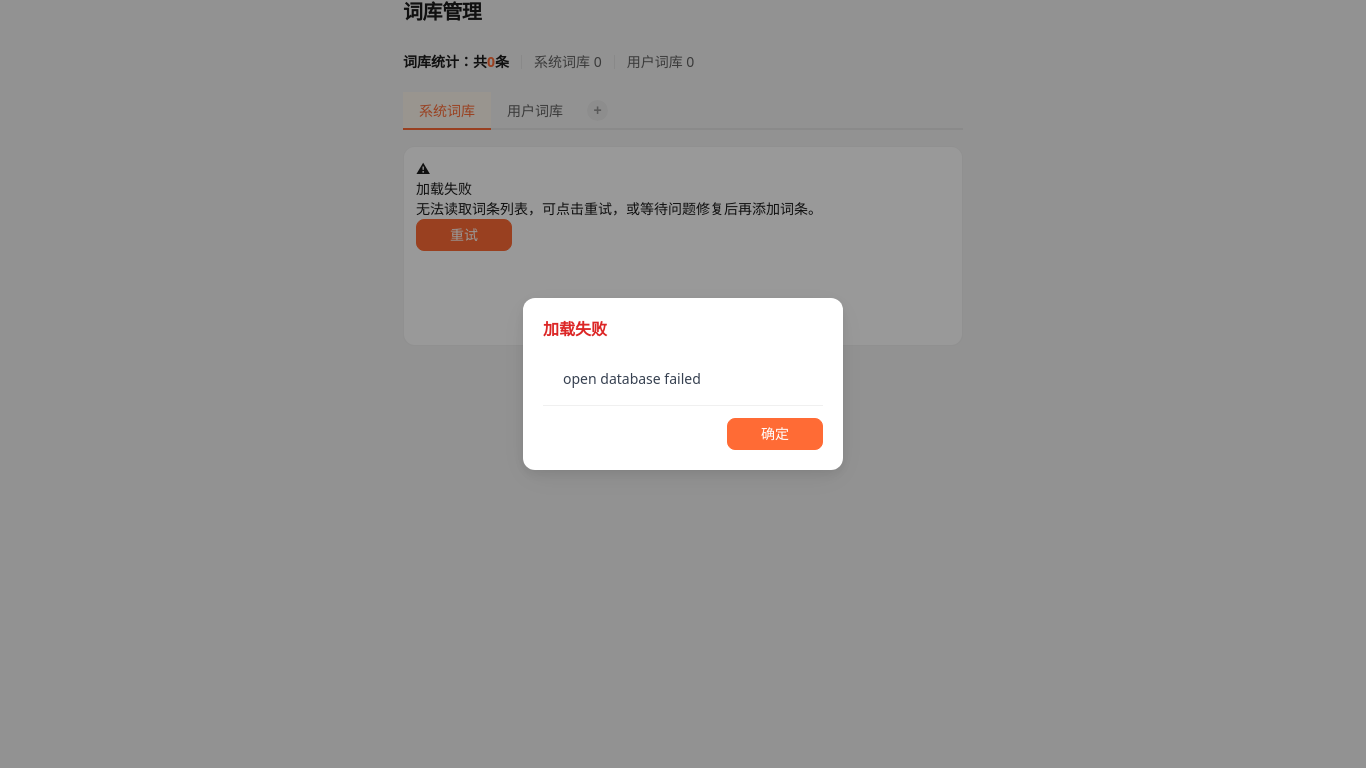
Scenario: WordbookPage — load states › LOAD-UNIT-001: 加载失败时显示错误弹框、失败状态页和重试按钮
The width and height of the screenshot is (1366, 768).
Expected: the text "open database failed" is shown, [563, 369, 701, 388]
# 关闭弹框后，失败状态页仍可看到重试按钮
Click the button "确定": (775, 434) [727, 418, 823, 450]
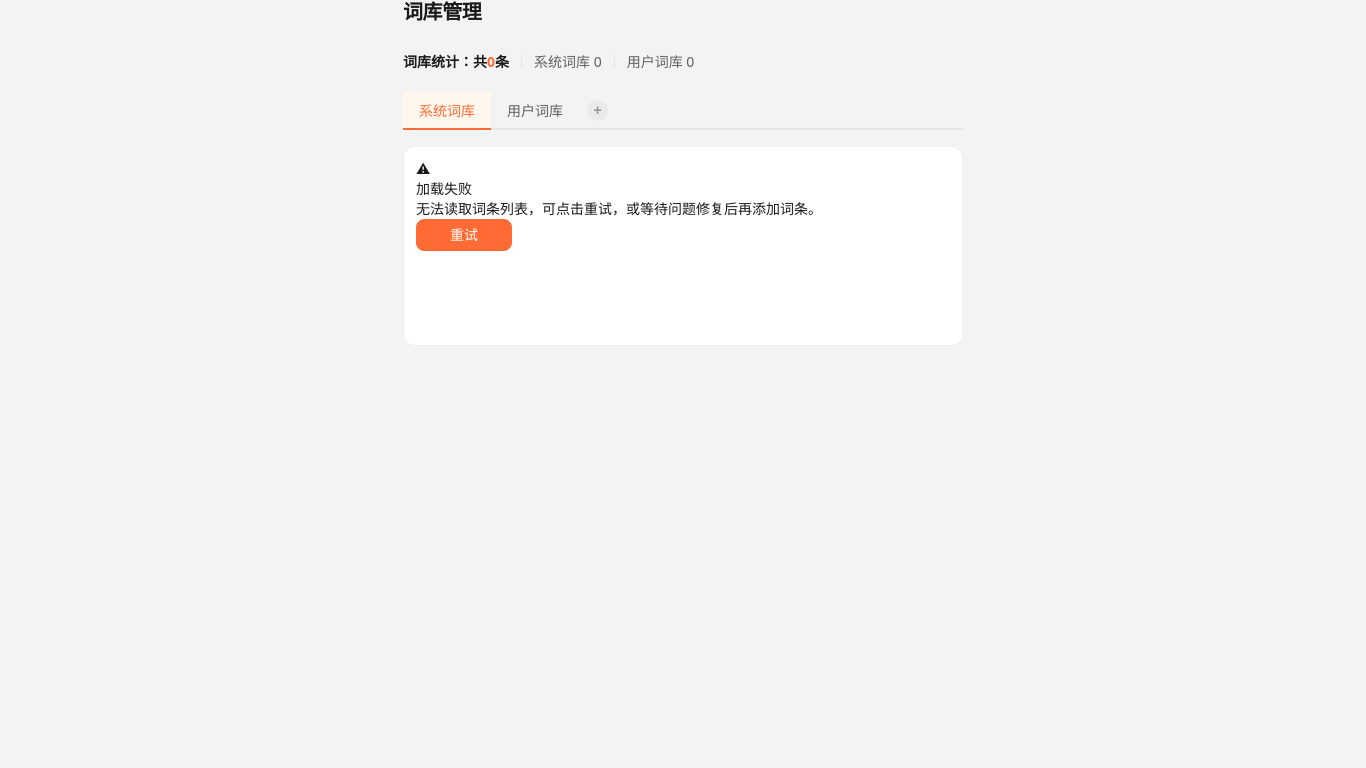
Expected: the text "无法读取词条列表，可点击重试，或等待问题修复后再添加词条。" is shown, [416, 199, 822, 218]
Result: the text "open database failed" is gone
